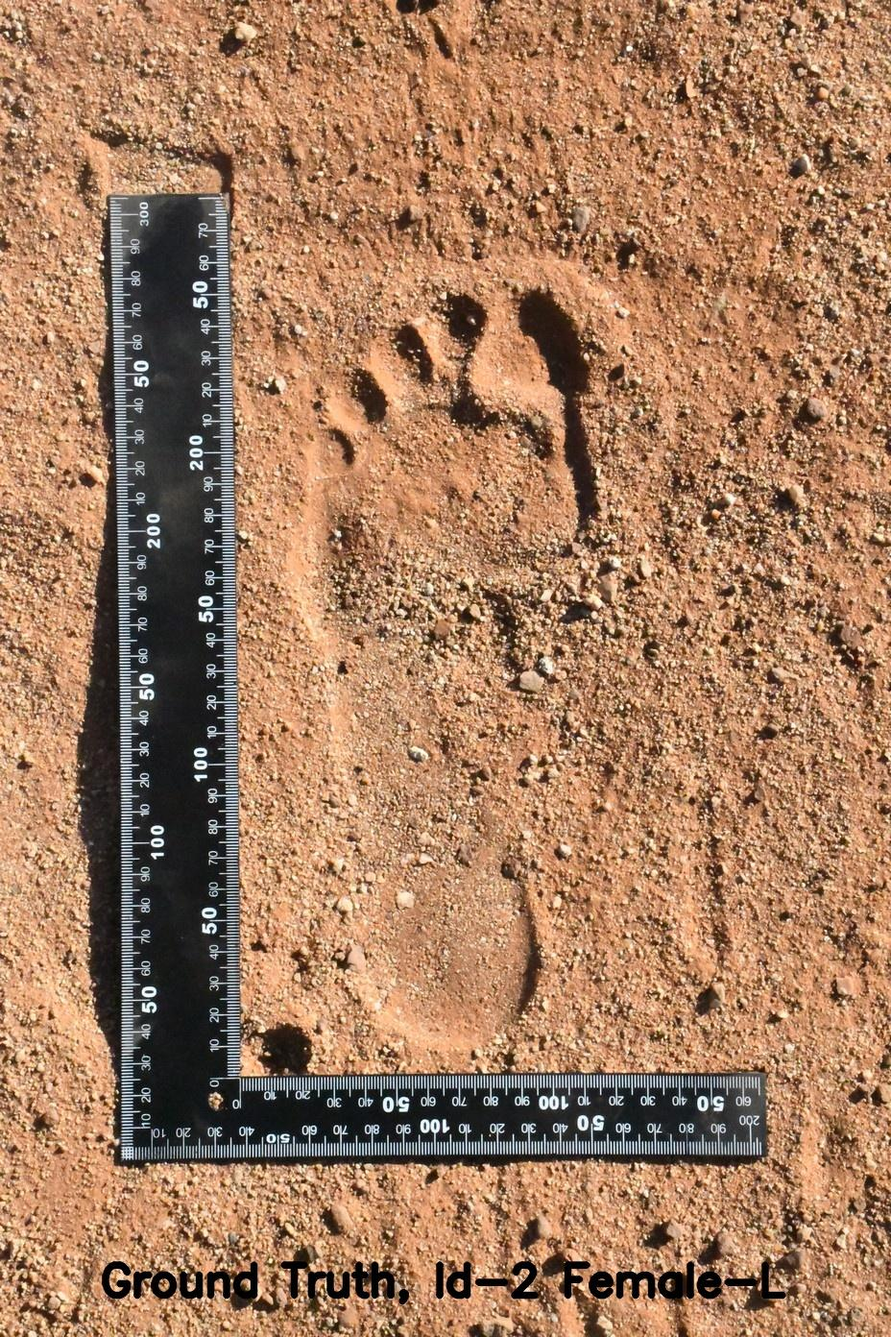human_foot_print: (282, 219, 673, 1063)
